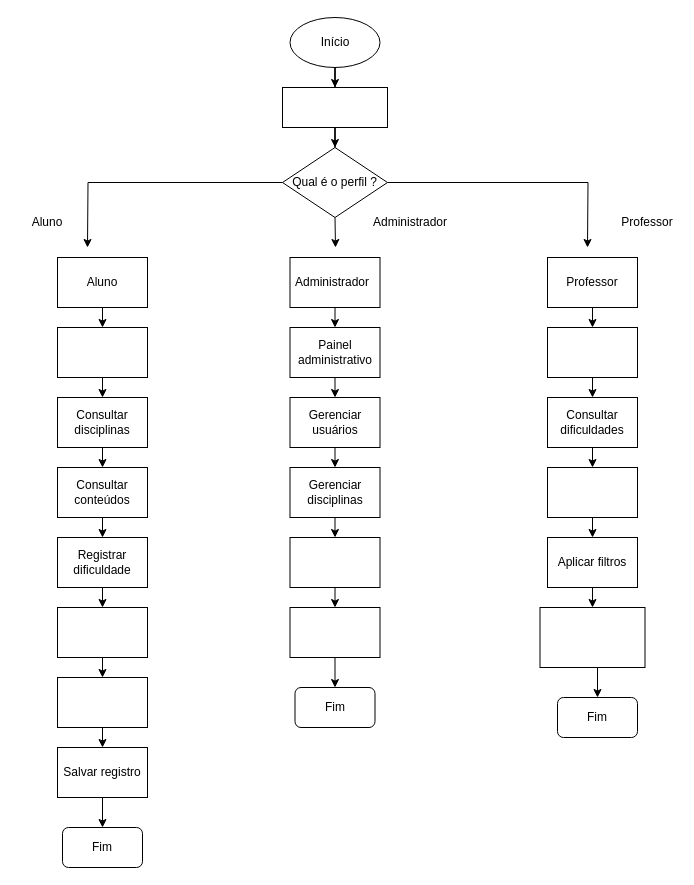
The diagram is 694 pixels wide and 885 high, and some of its shapes have lost their labels. Each missing label, with the box of its shape:
Descrever dificuldade: (56, 676, 148, 728)
Gerenciar conteúdos: (289, 536, 380, 588)
Gerenciar permissões: (289, 606, 380, 658)
Identificar conteúdos com maior dificuldade: (539, 606, 645, 668)
Informar nível de dificuldade: (56, 606, 148, 658)
Painel do professor: (546, 326, 638, 378)
Página inicial: (56, 326, 148, 378)
Realizar login: (282, 86, 388, 128)
Visualizar indicadores: (546, 466, 638, 518)
